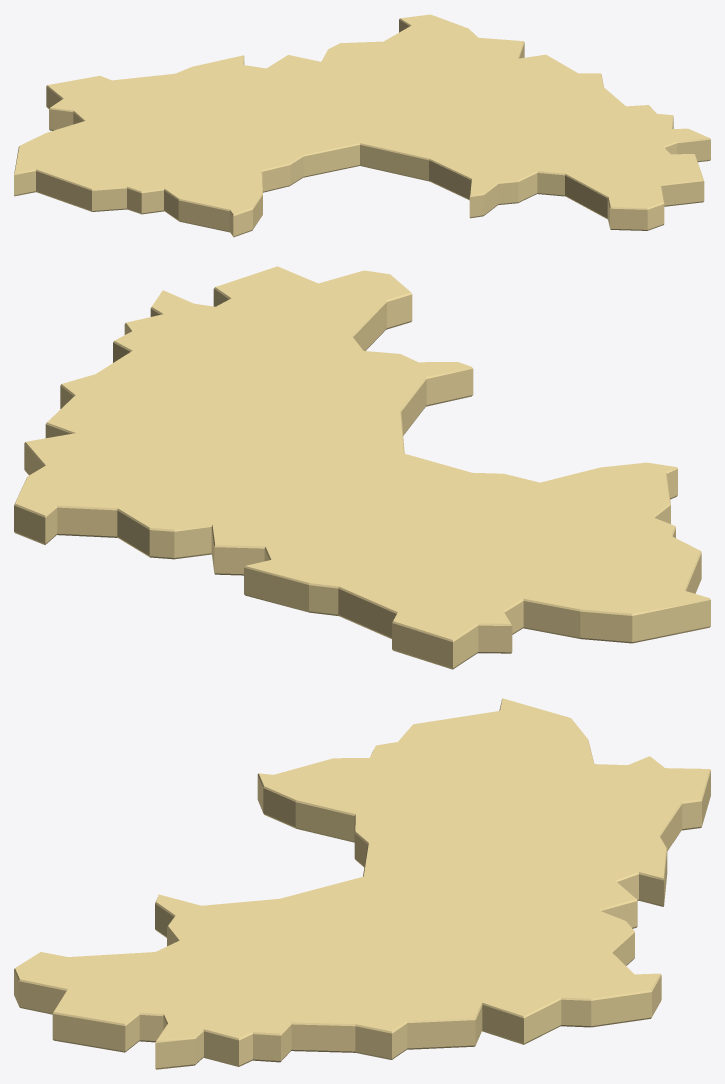
The model's file is GIN.glb.
3 views of the same model, one above another, from view 1: azimuth 30°, elevation 25°; view 2: azimuth 150°, elevation 25°; view 3: azimuth 270°, elevation 25° (orthographic). The views are drawn at different scales.
Size of the model in its own units: 1.74 by 0.068 by 1.5.
